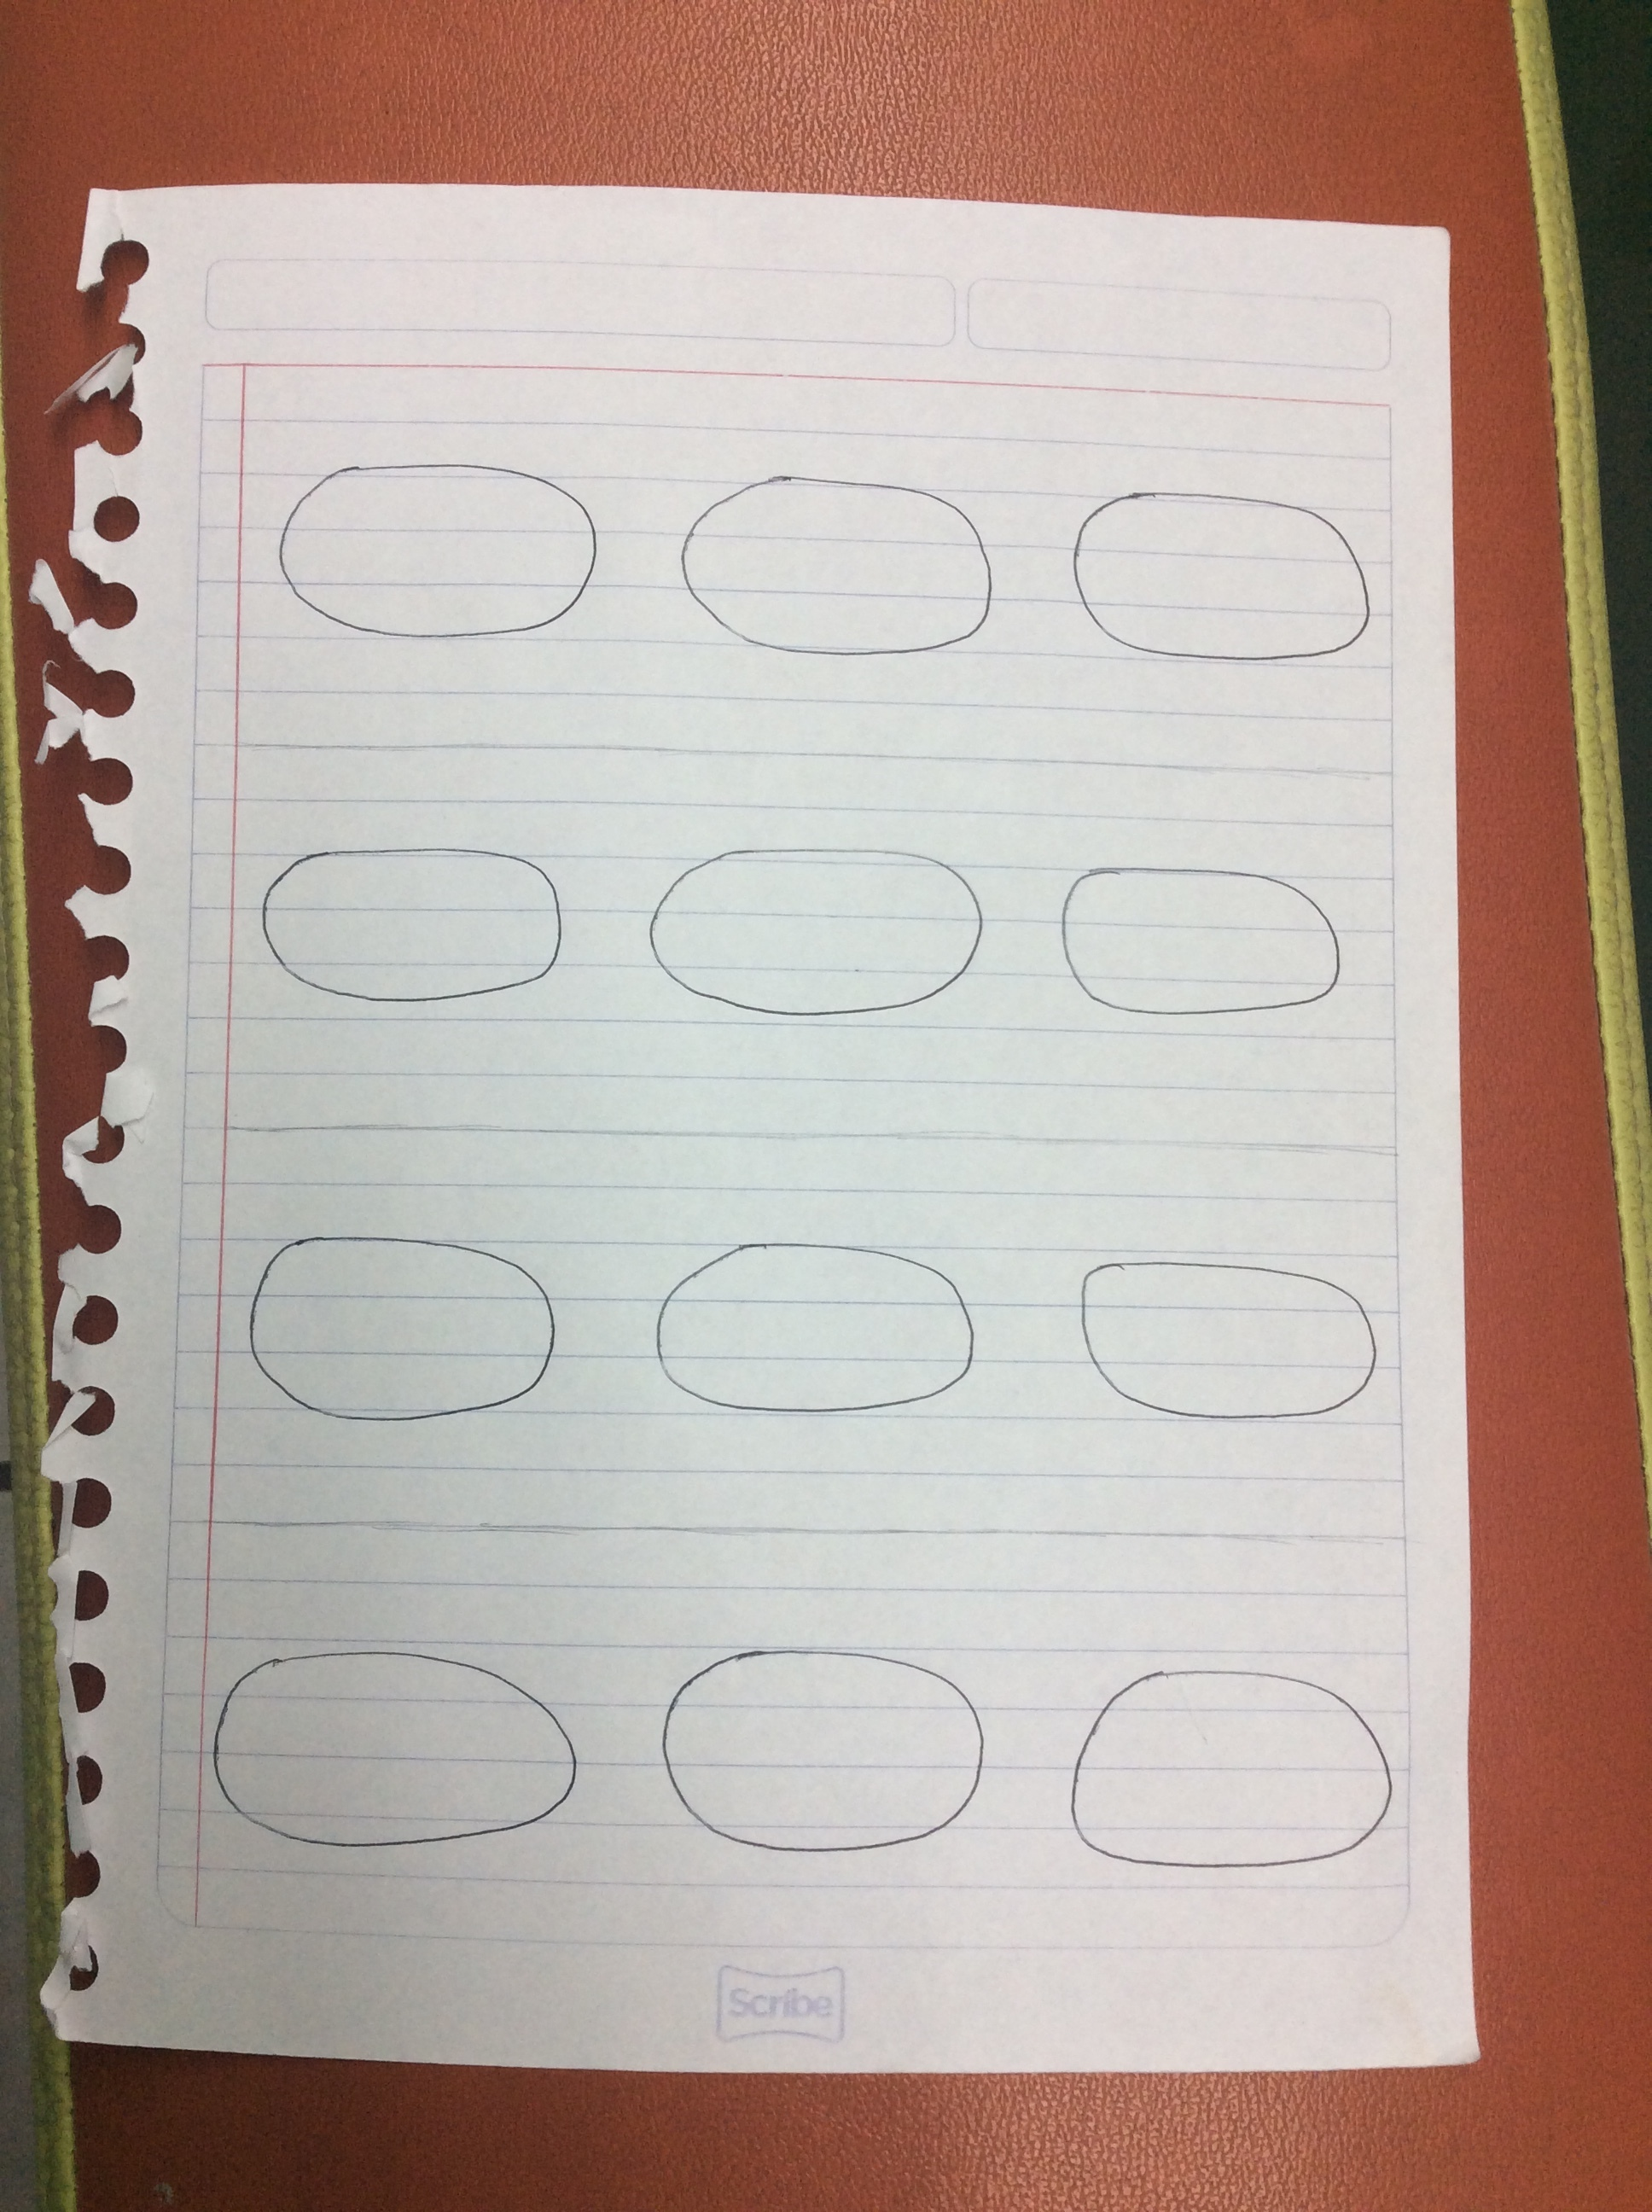start_end: (186, 1605, 592, 1898), (633, 1615, 1005, 1881), (1039, 1633, 1411, 1895), (259, 420, 616, 673), (619, 1218, 994, 1447), (1046, 455, 1392, 699), (626, 815, 1001, 1037), (231, 1202, 571, 1443), (654, 451, 1012, 677), (1046, 1221, 1400, 1443), (231, 812, 581, 1020), (1032, 829, 1371, 1044)
